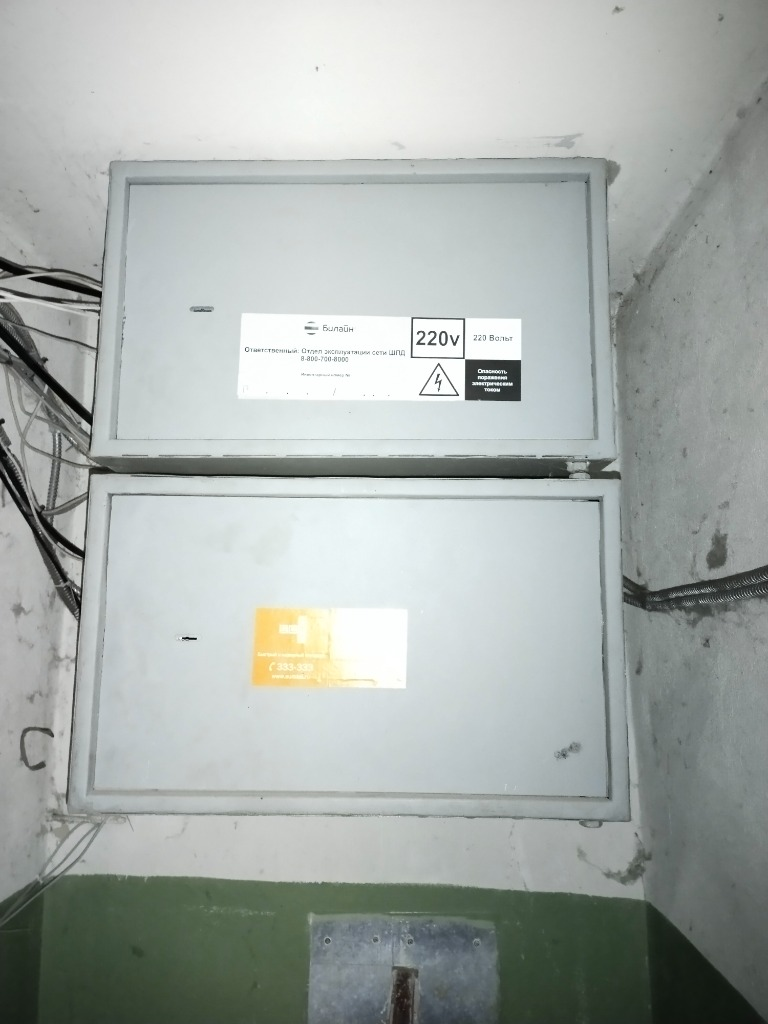e2-6u: (83, 154, 623, 463)
